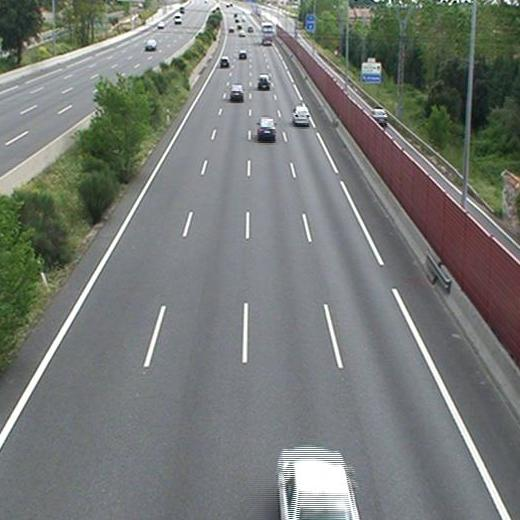car: (277, 448, 357, 520), (258, 118, 274, 137), (292, 107, 309, 124), (229, 85, 244, 100), (258, 75, 270, 88), (237, 50, 247, 59), (220, 58, 231, 66)
truck: (261, 22, 274, 47)
